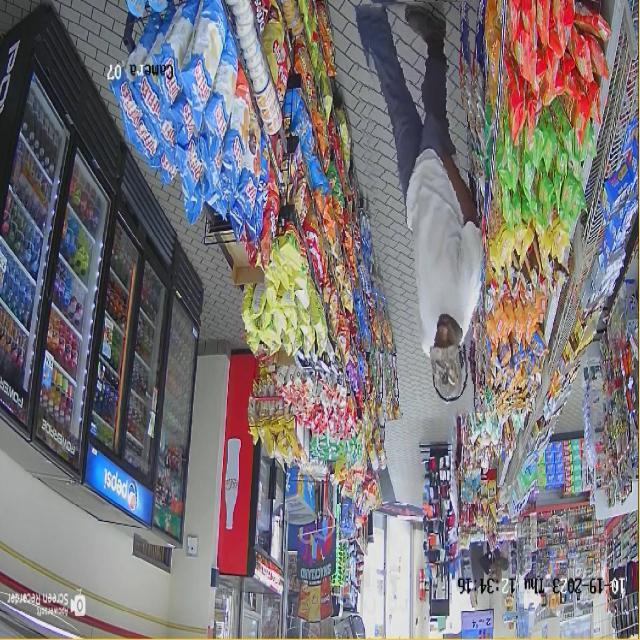Normal: (361, 0, 485, 419)
